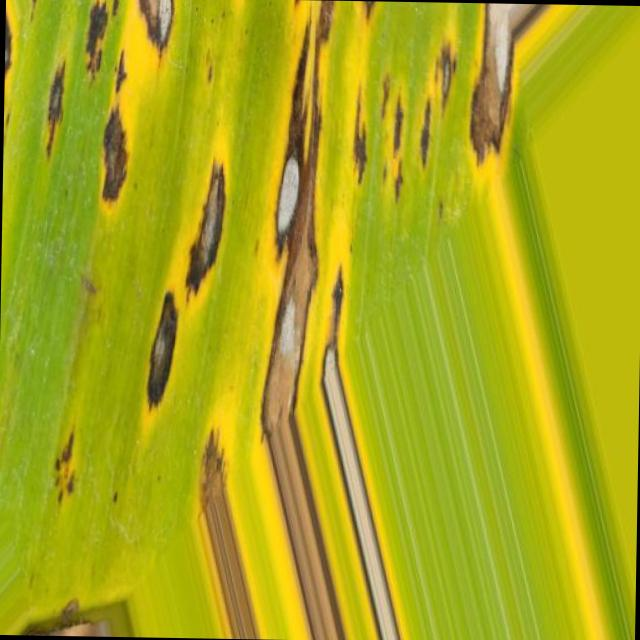Banana_Yellow_Sigatoka: (132, 281, 434, 634), (43, 0, 537, 195)
